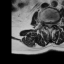CCS_stenosis: (48, 21, 50, 29)
LFS_severe_stenosis: (52, 21, 55, 28)
LLS_stenosis: (50, 21, 52, 28)
RFS_severe_stenosis: (43, 21, 46, 27)
RLS_stenosis: (46, 21, 48, 28)
